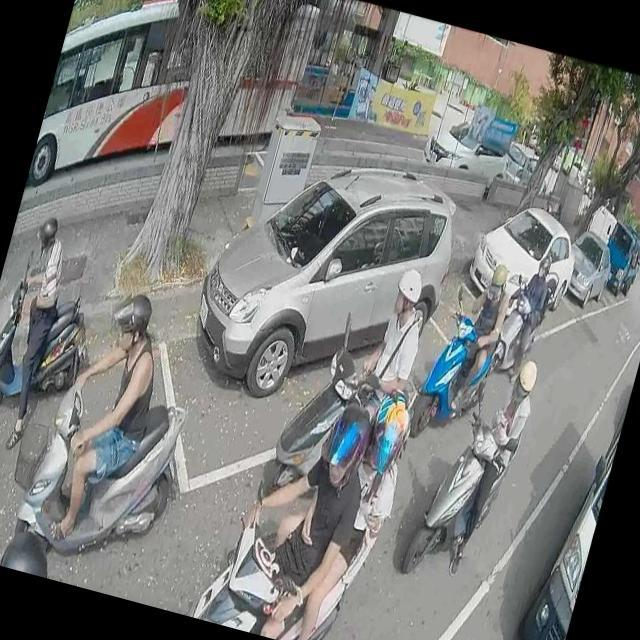person: (204, 391, 381, 640), (28, 274, 180, 559), (262, 368, 416, 640), (440, 343, 542, 583), (0, 206, 84, 449), (433, 244, 518, 416), (348, 264, 436, 424), (501, 250, 559, 374), (0, 512, 60, 577)
